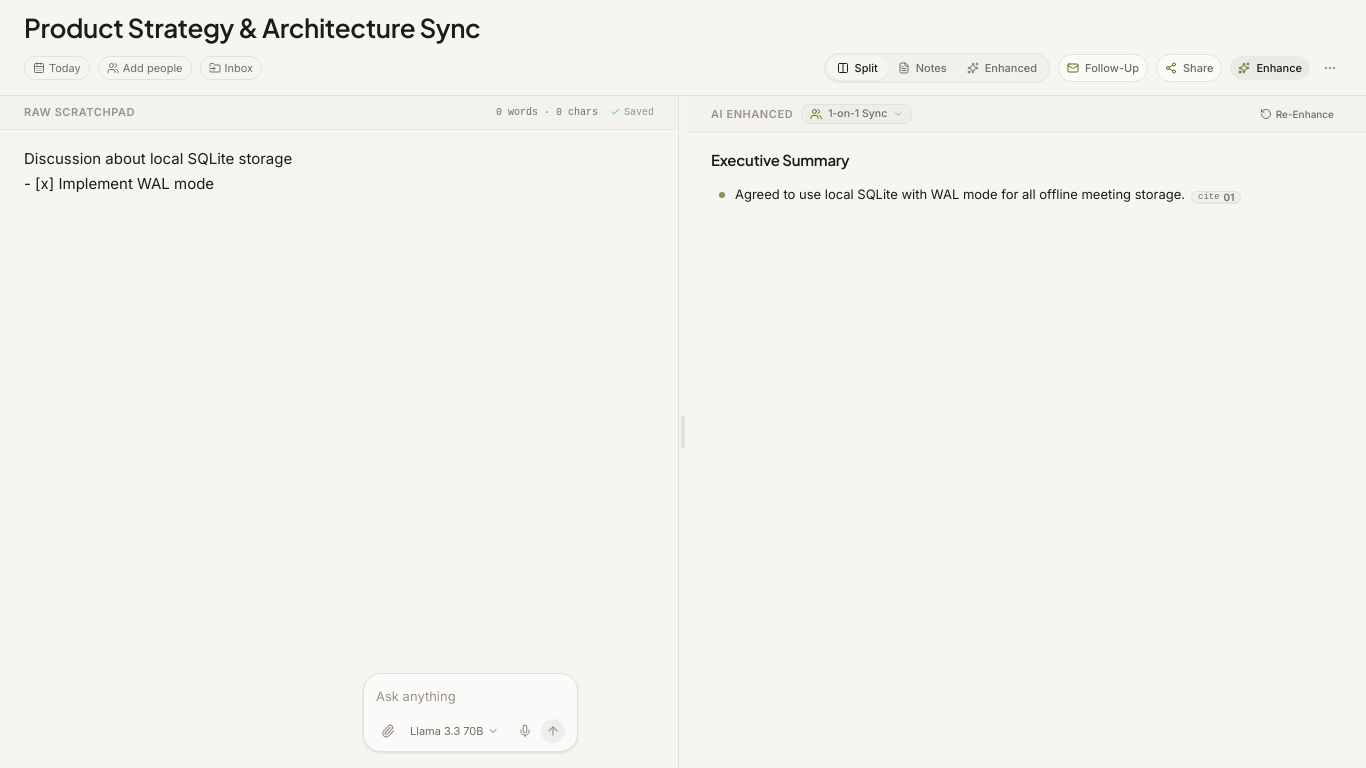
NotePage Dual-Pane Editor & Templates › switches view modes when clicking pills or using keyboard shortcuts
Expected: the text "Raw Scratchpad" is shown, [24,104,135,120]
// Switch to Notes only
Click the button "Notes" at (922, 68), box [888,56,957,80]
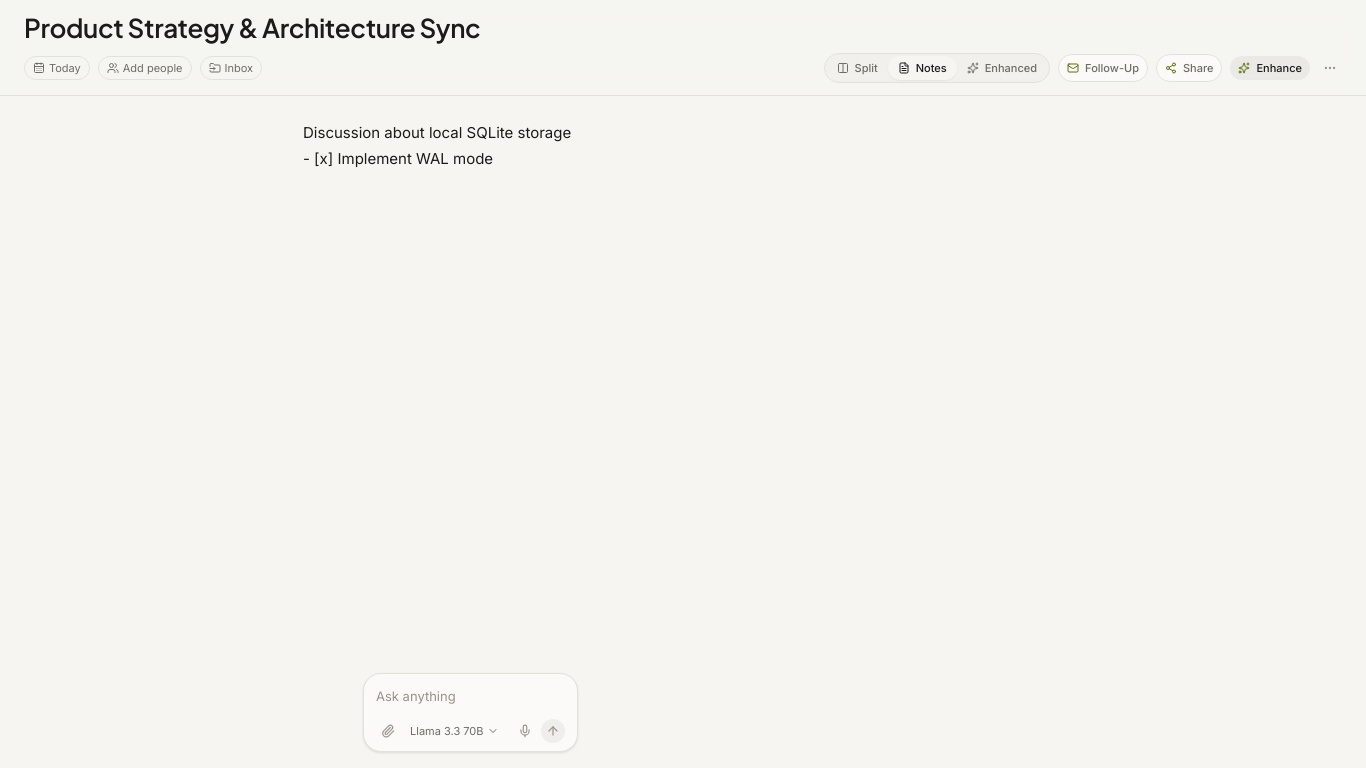
Now the text "Raw Scratchpad" is gone
// Switch via Ctrl+3 to Enhanced only
Press 3
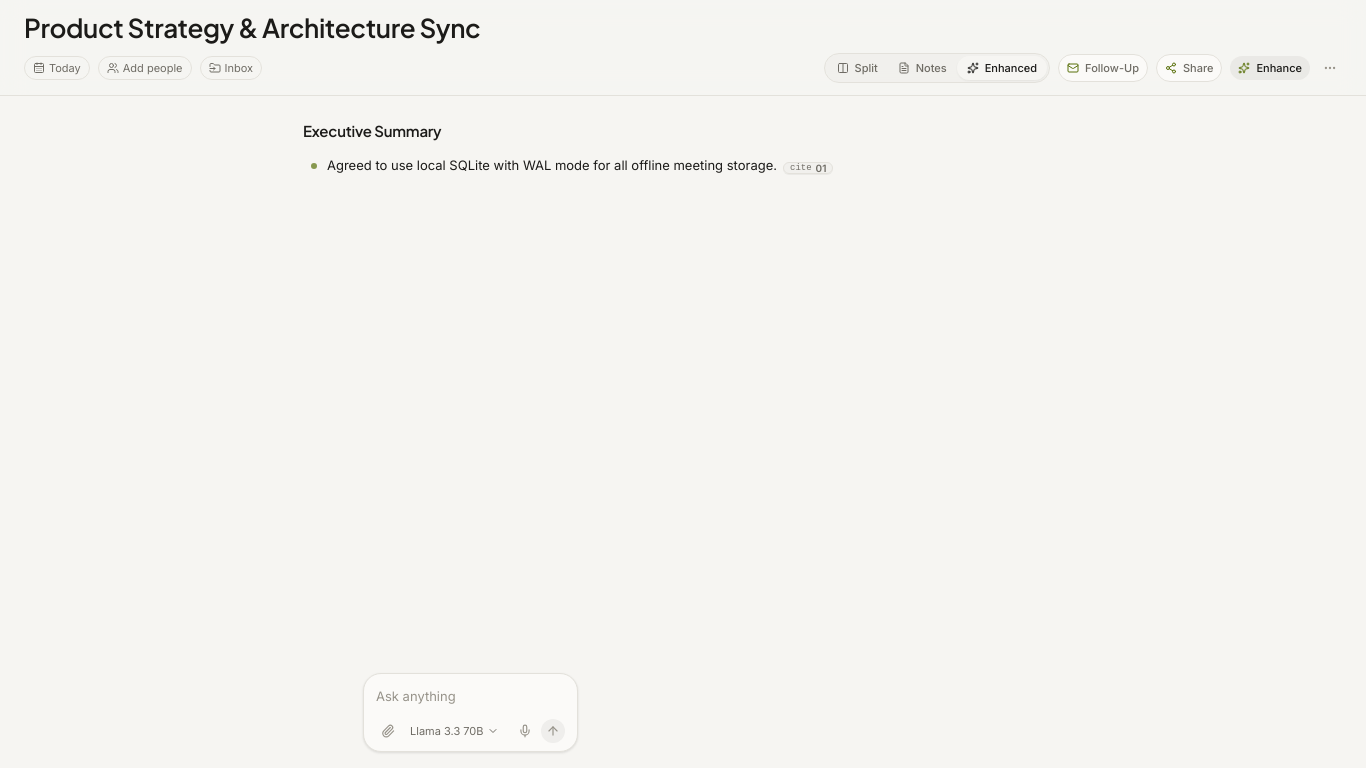
Now the heading "Executive Summary" is shown, box [303,121,441,140]
// Switch back to Split via Ctrl+1
Press 1
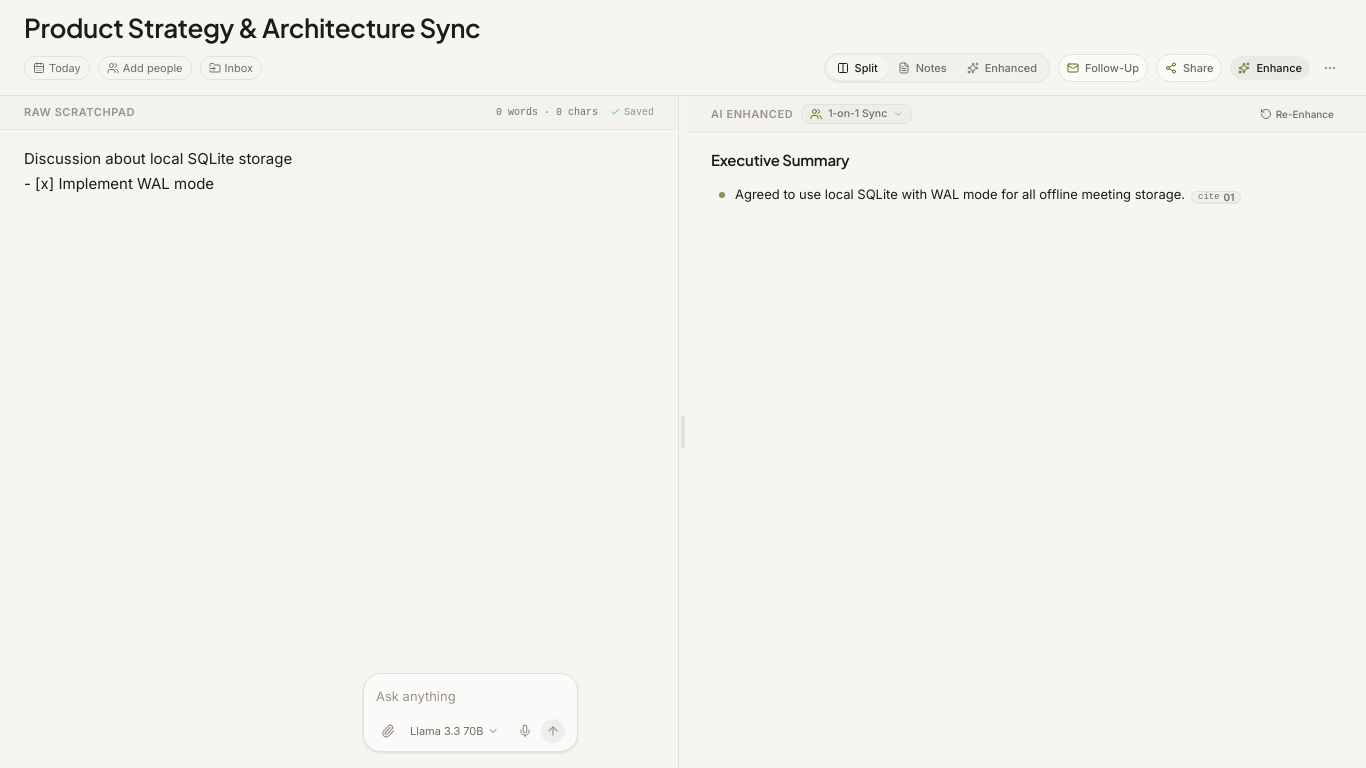
Now the text "Raw Scratchpad" is shown, box [24,104,135,120]
Now the text "AI Enhanced" is shown, box [711,106,793,122]
